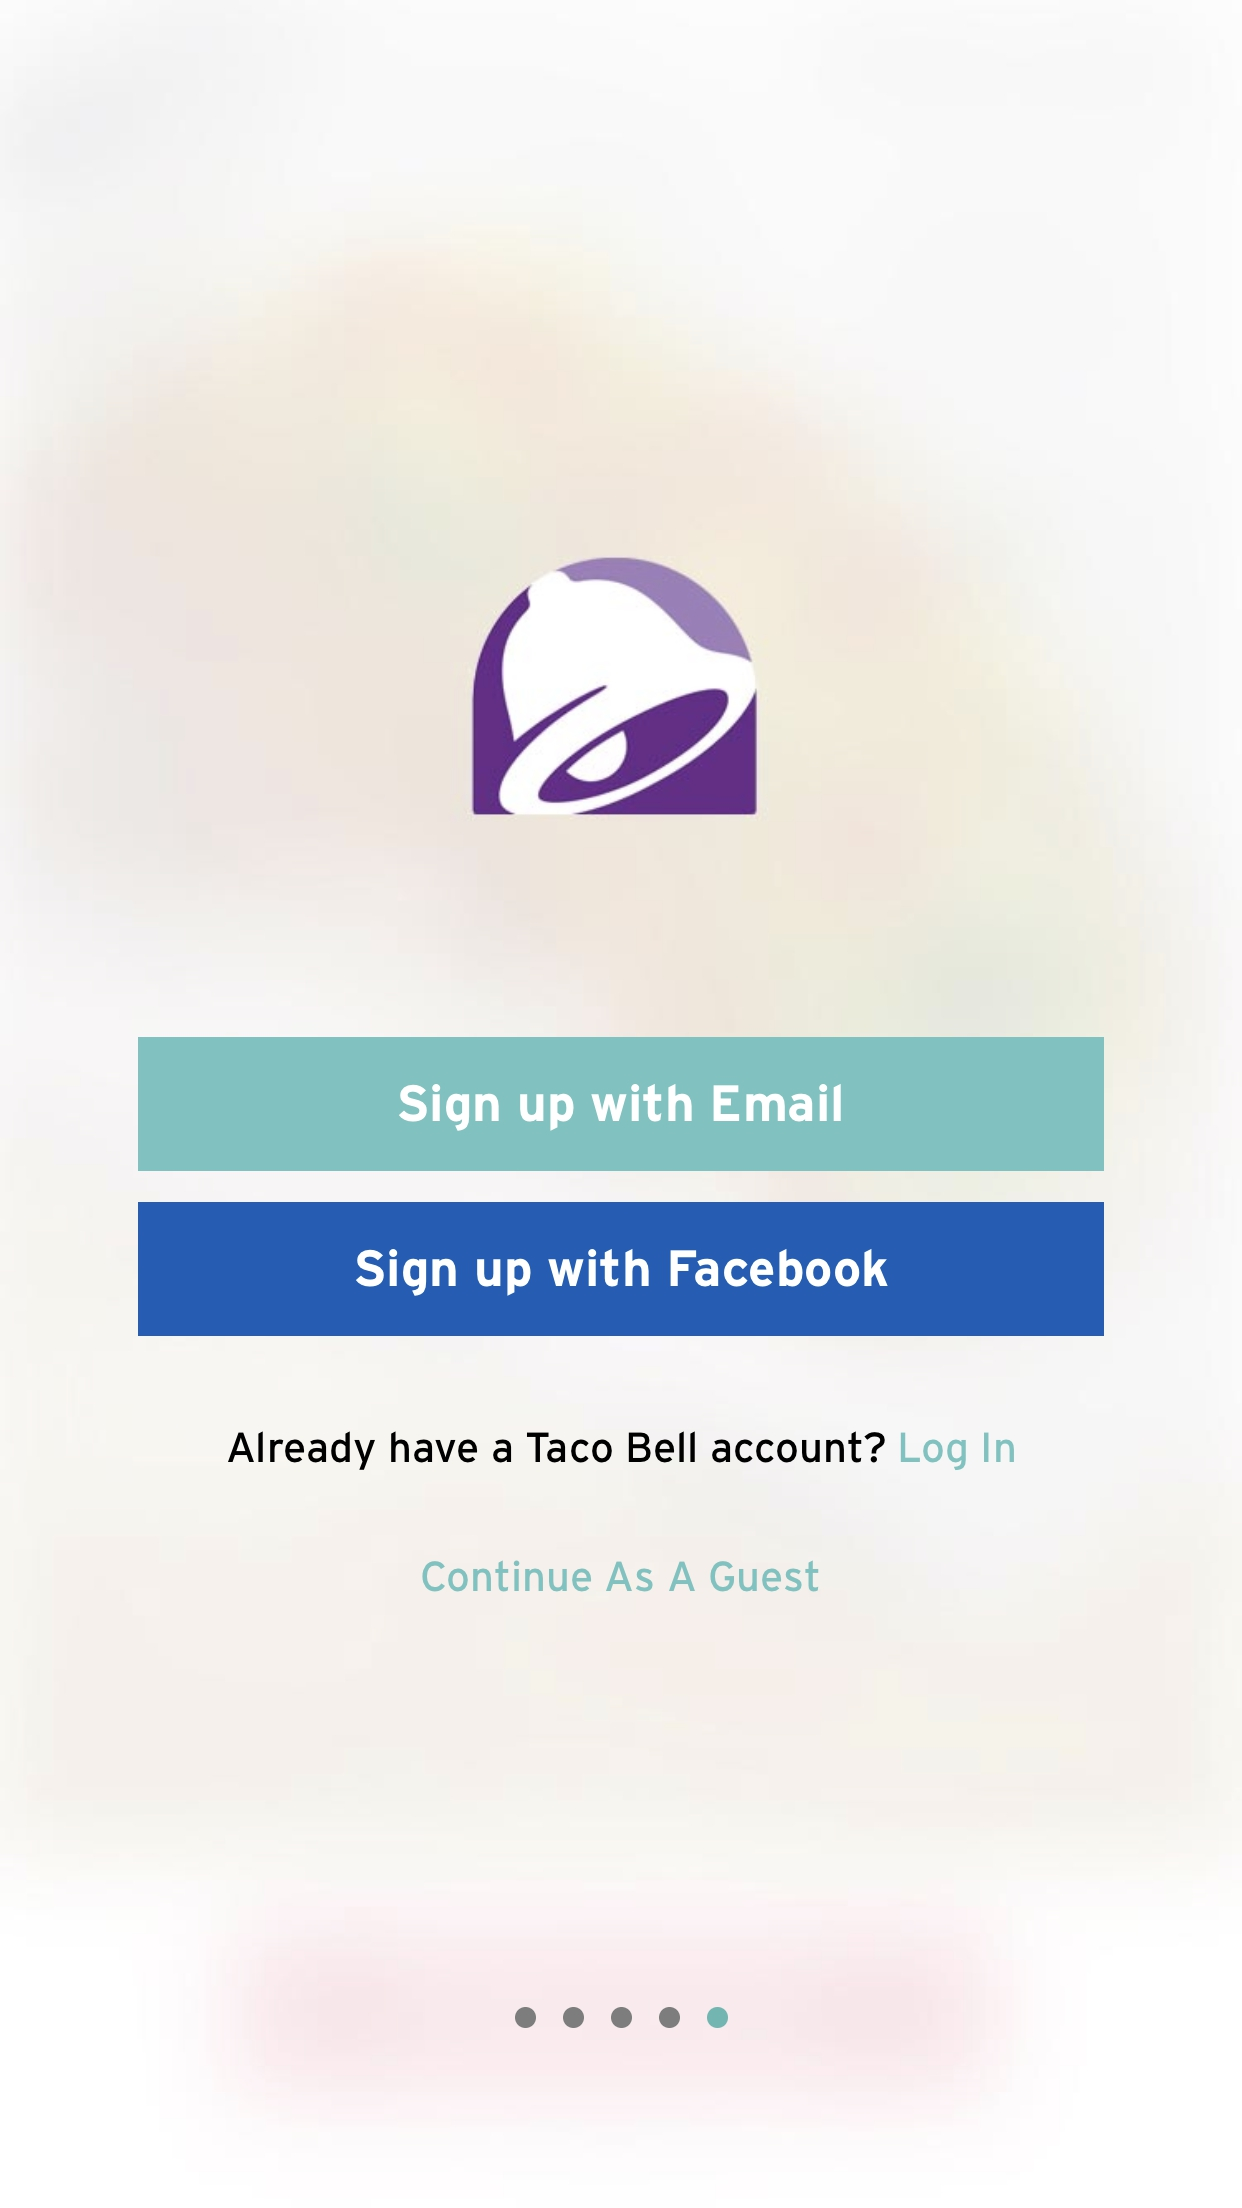Image: (472, 557, 758, 816)
PageIndicator: (516, 2006, 729, 2029)
Text: (227, 1430, 1015, 1471), (422, 1560, 820, 1594)
TextButton: (140, 1203, 1106, 1338), (138, 1037, 1104, 1172)
